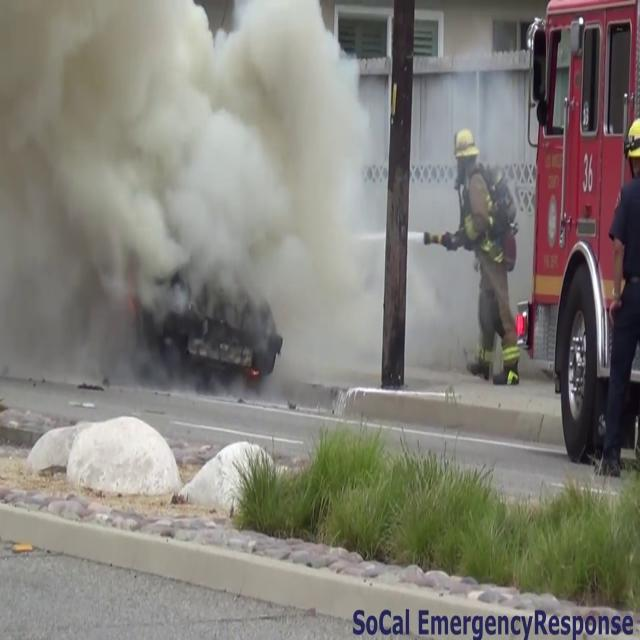Smoke: (0, 0, 382, 383)
